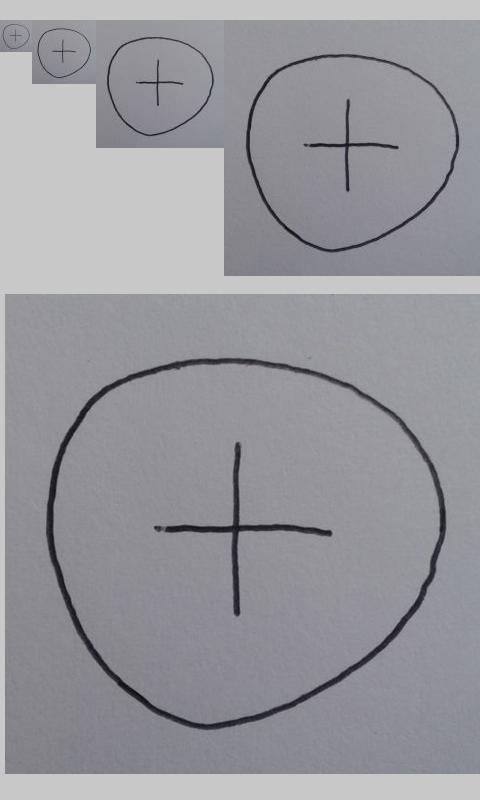button: (44, 355, 448, 733), (245, 53, 459, 254), (106, 36, 215, 137), (37, 28, 92, 79), (2, 23, 30, 50)
